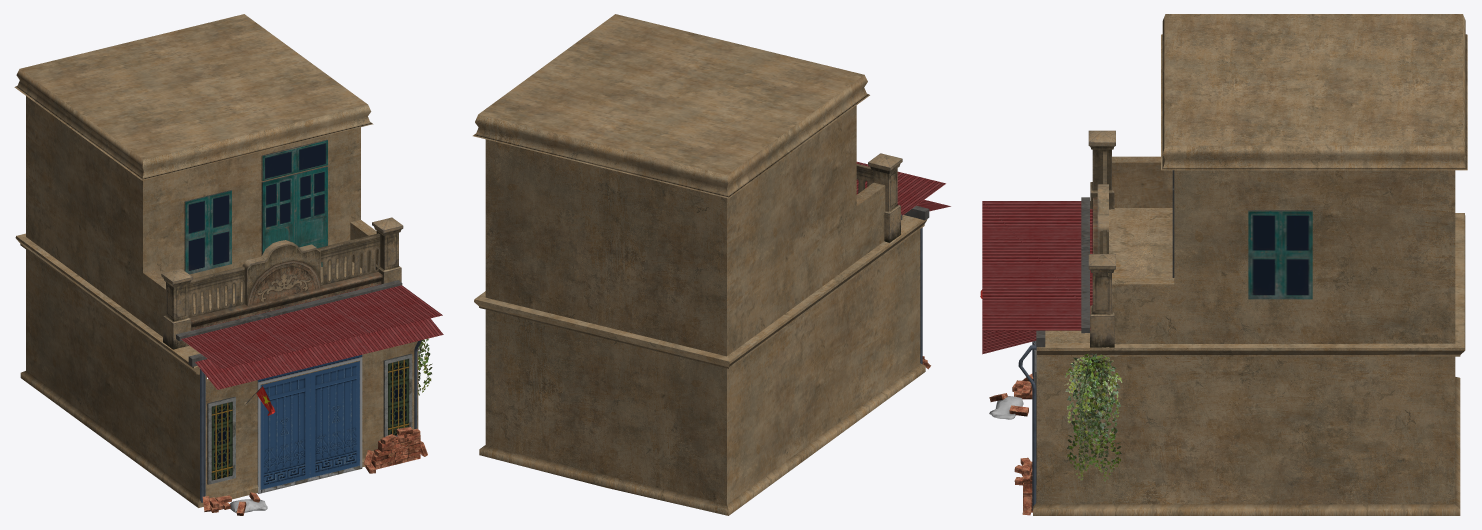
Rendered from SM_House_HN1.FBX.
3 views of the same model, side by side, from view 1: azimuth 30°, elevation 25°; view 2: azimuth 150°, elevation 25°; view 3: azimuth 270°, elevation 25° (orthographic). The views are drawn at different scales.
Parts seen in each view (by area): view 1: SM_houseHN1; view 2: SM_houseHN1; view 3: SM_houseHN1.
Part boxes in pixels (x1,y1,x2,y2): SM_houseHN1: [14, 14, 443, 515]; SM_houseHN1: [473, 14, 950, 515]; SM_houseHN1: [980, 14, 1467, 515].
Bounding box in the file's own units: 9.16 × 10.42 × 12.34.
